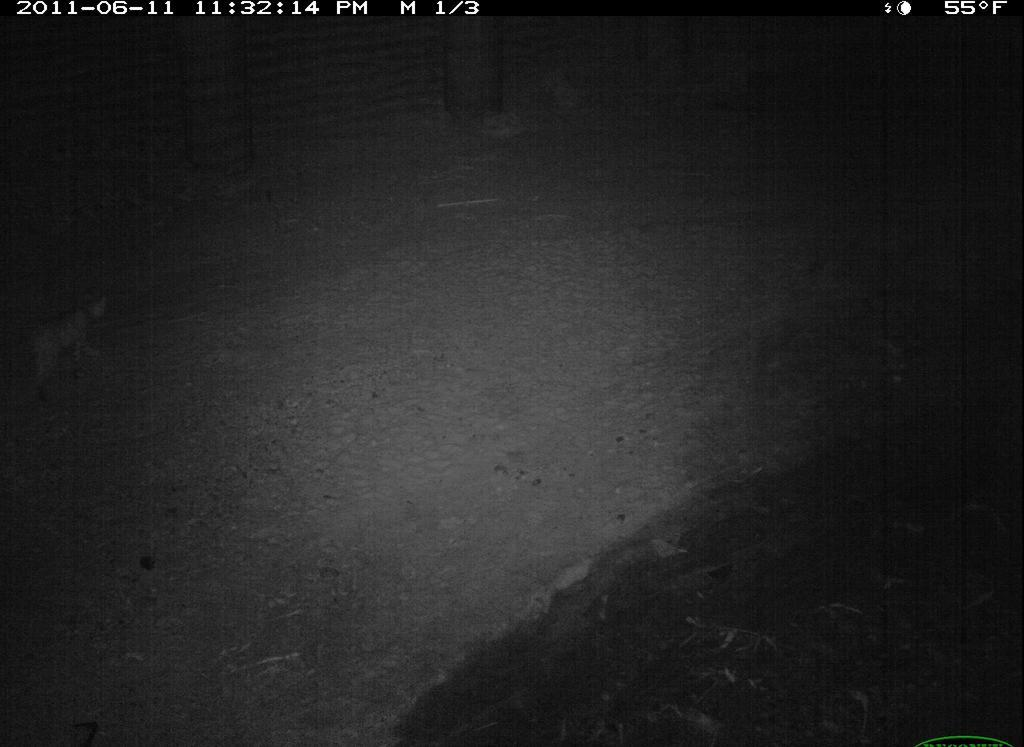bobcat: (21, 265, 118, 438)
